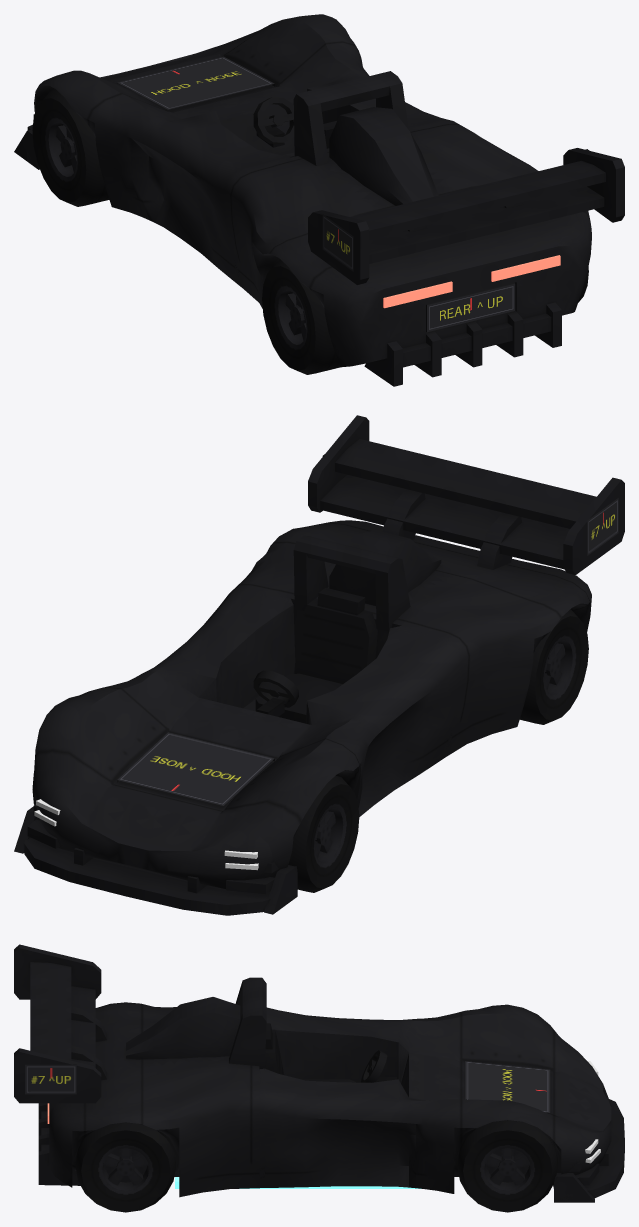
The model's file is razor_kart.fbx.
3 renders of one model, top to bottom at view 1: azimuth 30°, elevation 25°; view 2: azimuth 150°, elevation 25°; view 3: azimuth 270°, elevation 25°, orthographic. The views are drawn at different scales.
Parts seen in each view (by area): view 1: Chassis, DecalPlates, Wheel_FL, Wheel_RL, TailStrips, Steer; view 2: Chassis, DecalPlates, Wheel_FL, Wheel_RL, Steer, HeadlightStrips; view 3: Chassis, Wheel_FR, Wheel_RR, DecalPlates, Steer, Underglow.
Part boxes in pixels (box(x1,y1,x2,y2)): Chassis: box(14, 14, 624, 386); DecalPlates: box(117, 56, 589, 332); Wheel_FL: box(32, 89, 109, 206); Wheel_RL: box(262, 259, 340, 374); TailStrips: box(383, 255, 560, 308); Steer: box(253, 97, 294, 144); Chassis: box(14, 415, 624, 915); DecalPlates: box(117, 454, 618, 805); Wheel_FL: box(288, 775, 359, 892); Wheel_RL: box(519, 609, 588, 724); Steer: box(253, 670, 298, 707); HeadlightStrips: box(34, 799, 258, 870); Chassis: box(14, 944, 624, 1202); Wheel_FR: box(457, 1120, 557, 1212); Wheel_RR: box(75, 1123, 175, 1212); DecalPlates: box(25, 1061, 550, 1112); Steer: box(361, 1050, 387, 1082); Underglow: box(175, 1177, 421, 1188).
Size of what is drawn, in the model's own units: 5.16 by 3.32 by 11.2.
